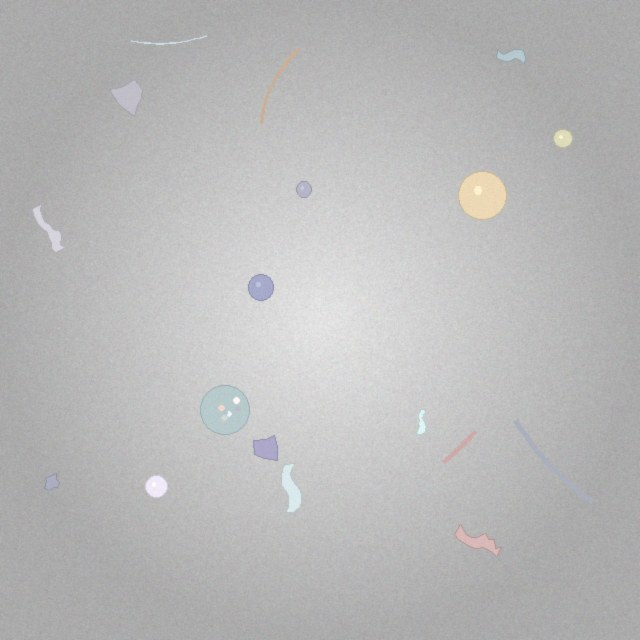fiber: (510, 415, 598, 507), (257, 45, 303, 127), (439, 426, 481, 467), (129, 34, 209, 47)
film: (33, 204, 67, 253), (455, 525, 502, 557), (281, 464, 302, 513), (496, 49, 526, 65), (416, 410, 427, 434)
foam: (201, 385, 250, 435)
fragment: (109, 80, 142, 117), (253, 436, 277, 460), (45, 474, 59, 490)
pellet: (458, 171, 507, 220), (248, 275, 274, 300), (145, 476, 167, 498), (554, 129, 572, 148), (296, 182, 312, 197)
